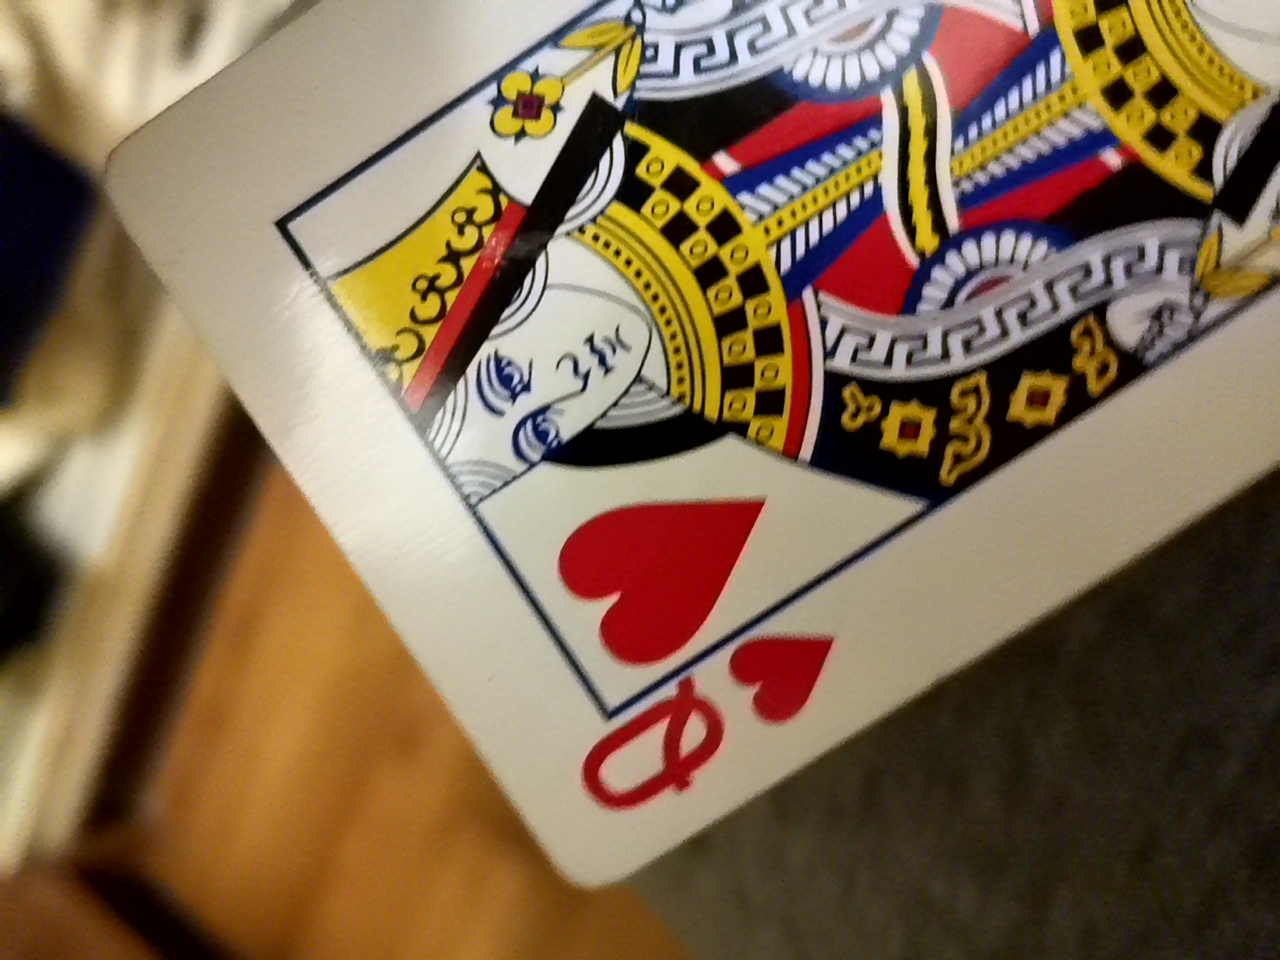hx q: (191, 3, 1280, 894)
